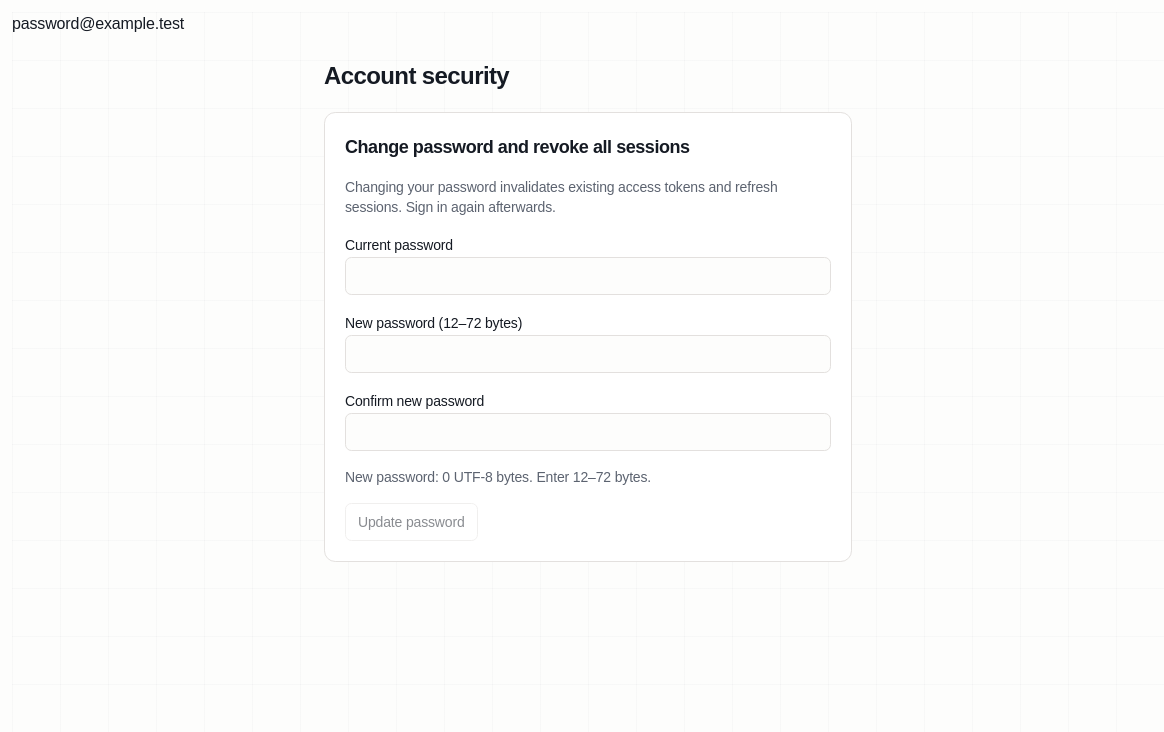
Test: password completion across the real provider's credential-clear remount › reports success and returns to sign-in once after its own credentials are cleared
This screenshot has width=1164, height=732.
Check: the text with test id "current-identity" reads "password@example.test", box [12,15,184,32]
In the password field labelled "Current password": (588, 276) [345,257,831,295], type "synthetic-current-password"
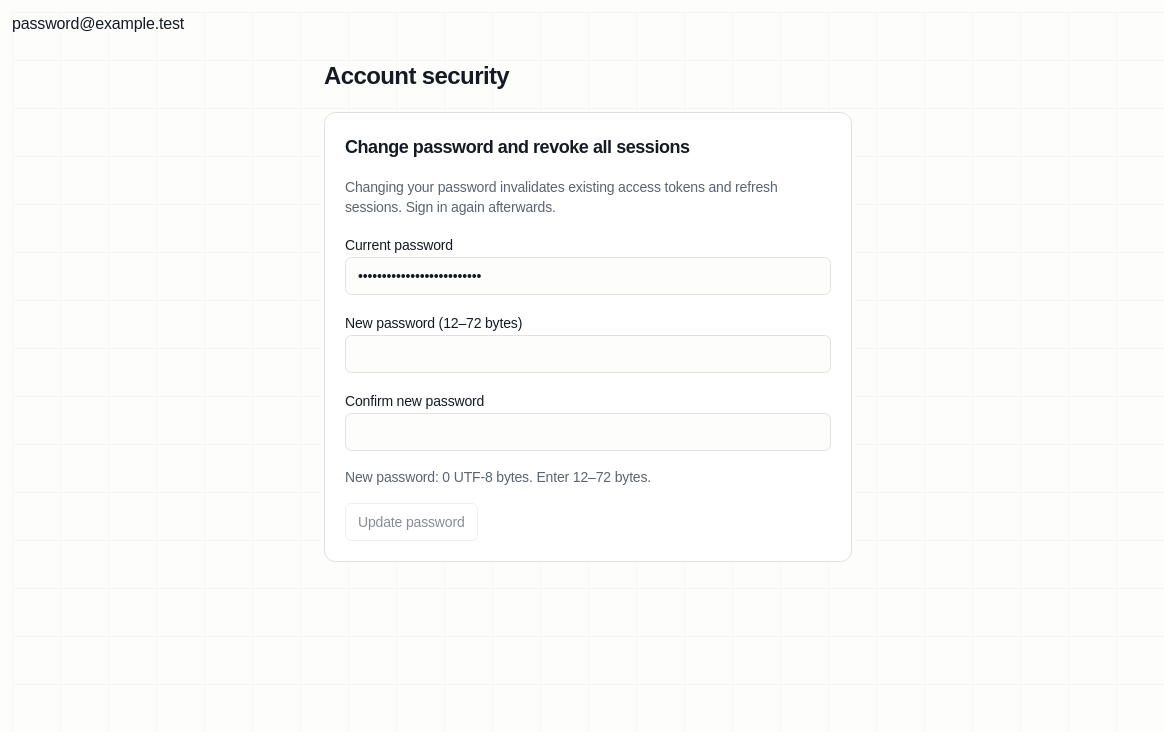
In the password field labelled "New password (12–72 bytes)": (588, 354) [345,335,831,373], type "synthetic-new-password"
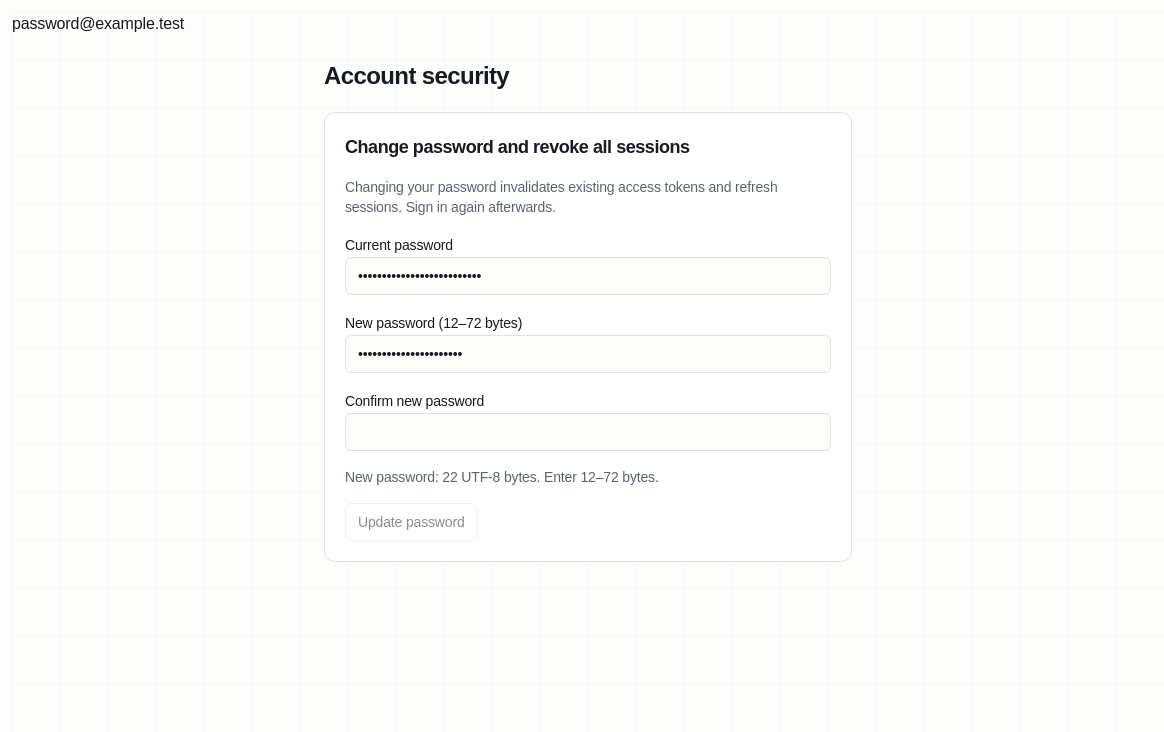
In the password field labelled "Confirm new password": (588, 432) [345,413,831,451], type "synthetic-new-password"
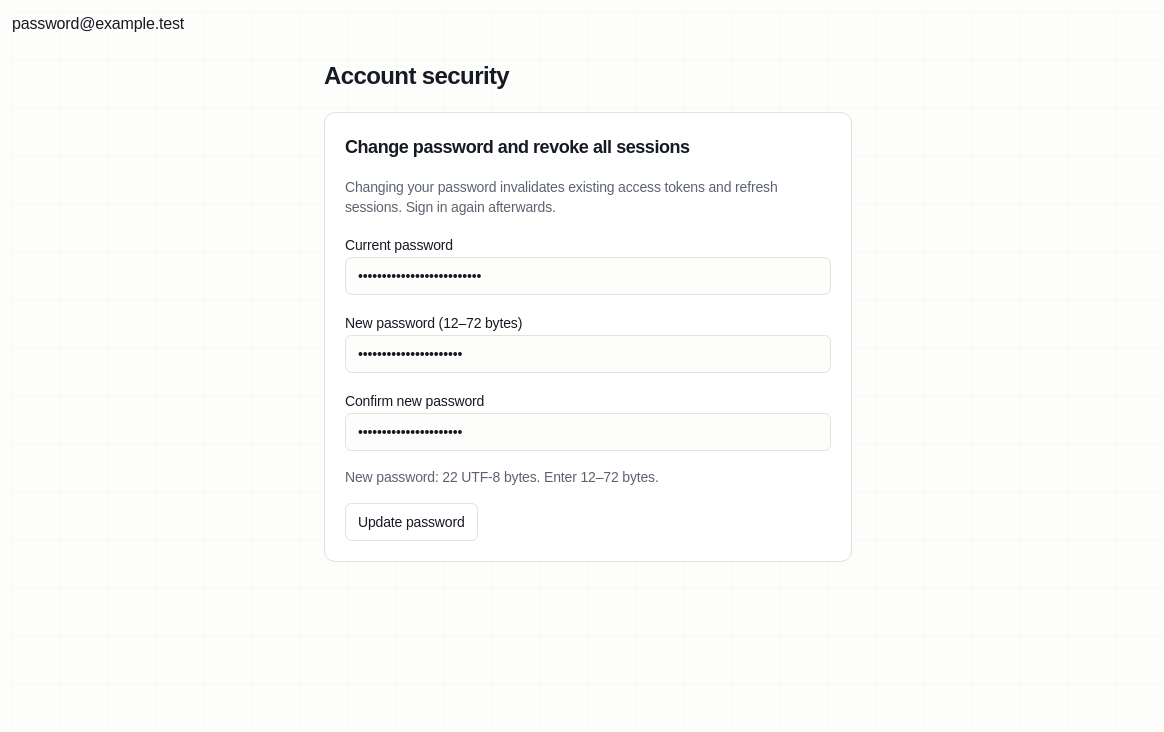
Click the button "Update password": click(411, 522) [345,503,478,541]
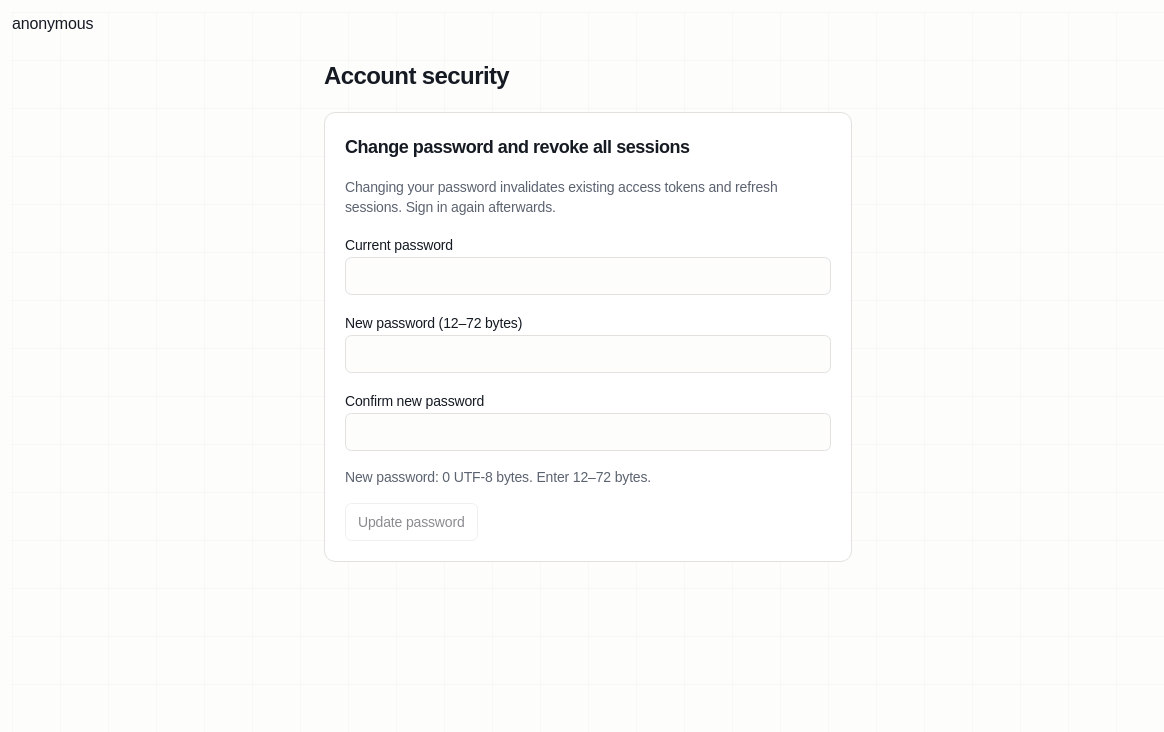
Check: the text with test id "current-identity" reads "anonymous", box [12,15,93,32]
